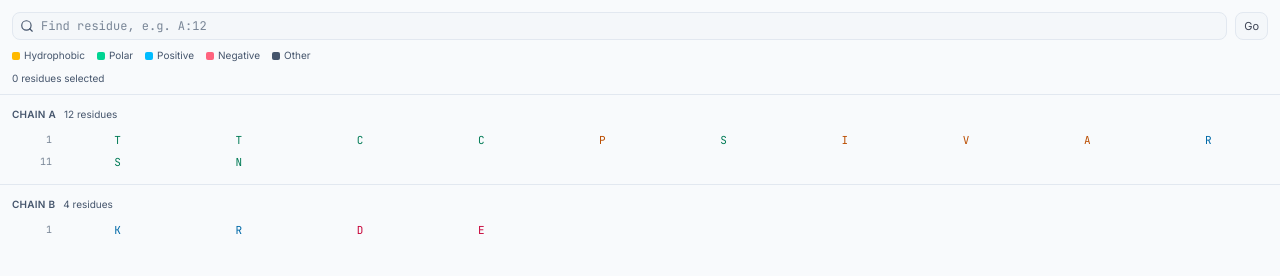
SequencePanel › shows an inline error for an out-of-range search and selects nothing
Type "A:999" into the field labelled "Find residue". click: x=620, y=26
box: x1=12 y1=12 x2=1227 y2=40
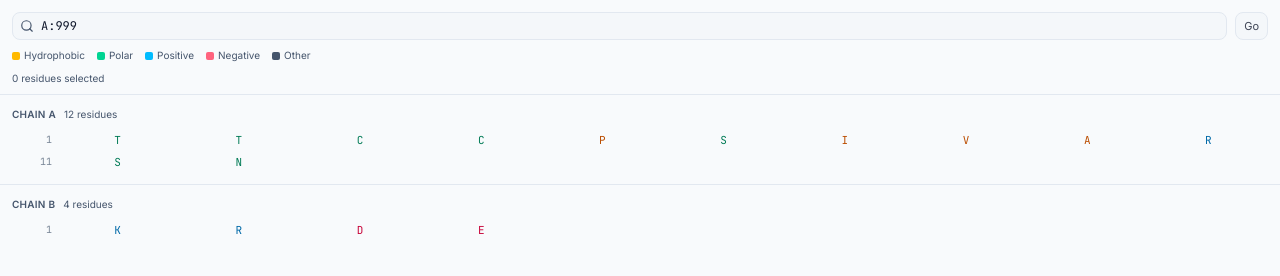
Click the button "Go". click: x=1252, y=26
box: x1=1235 y1=12 x2=1268 y2=40
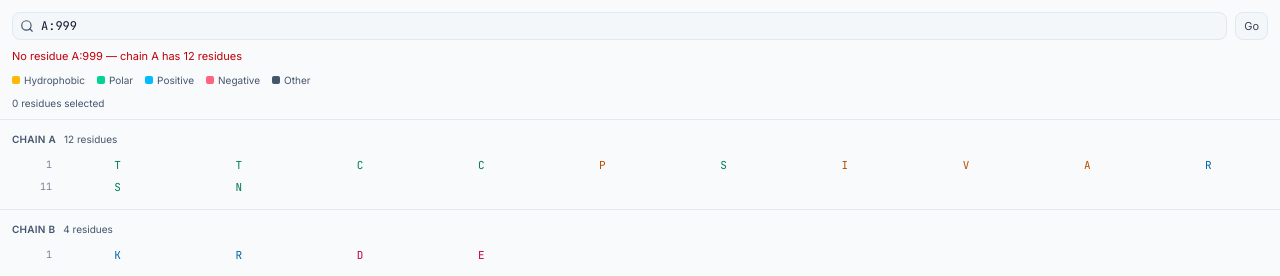
Expected: the message reads "No residue A:999 — chain A has 12 residues", x1=12 y1=49 x2=242 y2=63
